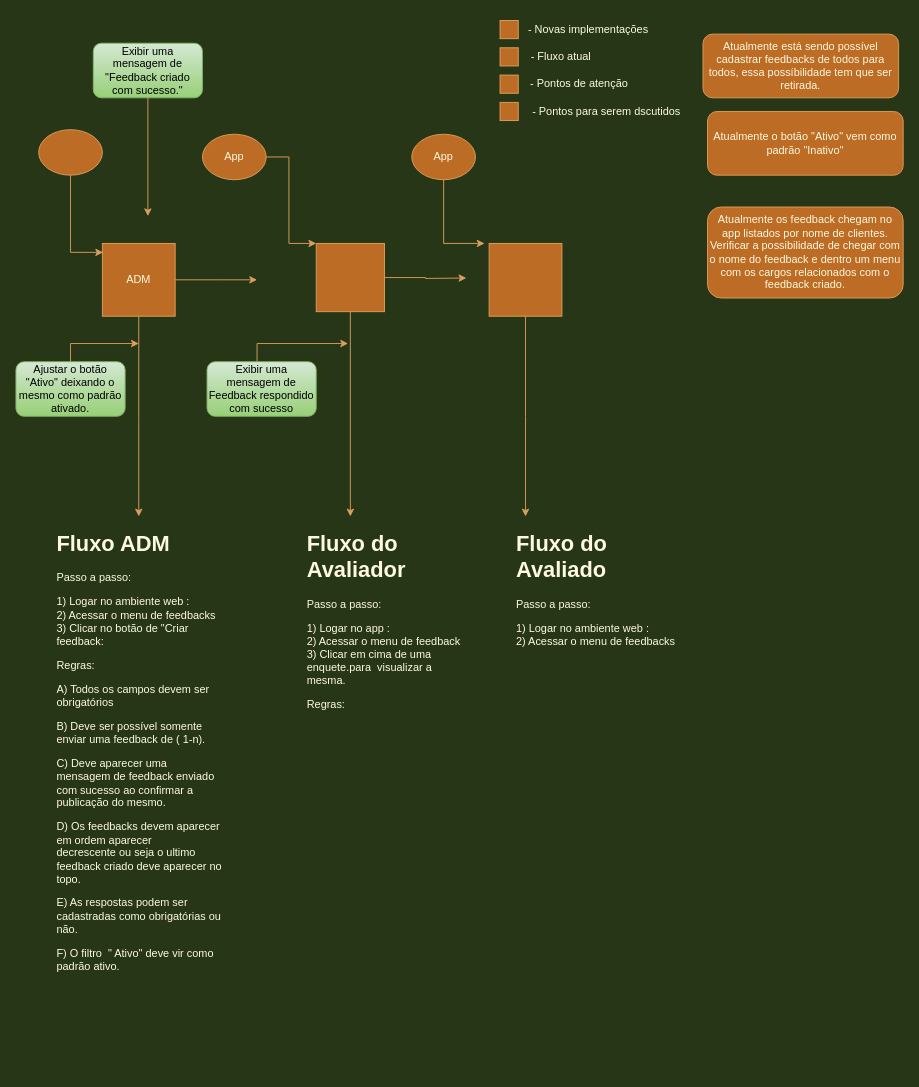
The diagram is 919 pixels wide and 1087 high, and some of its shapes have lost their labels. Here are the shapes that lost their labels. From the top down, the box of each, then its label:
(38, 129, 102, 175): Web
(315, 243, 384, 312): Avaliador
(488, 243, 562, 316): Avaliado
